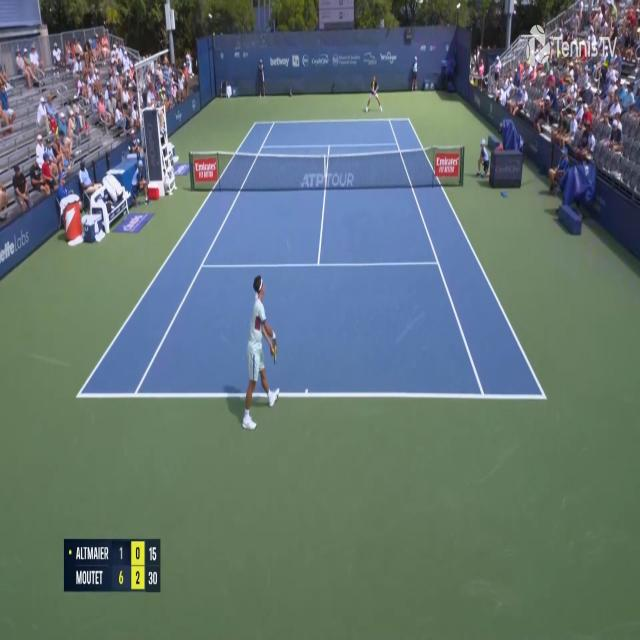tennis-player: (238, 273, 282, 433), (364, 75, 383, 114)
